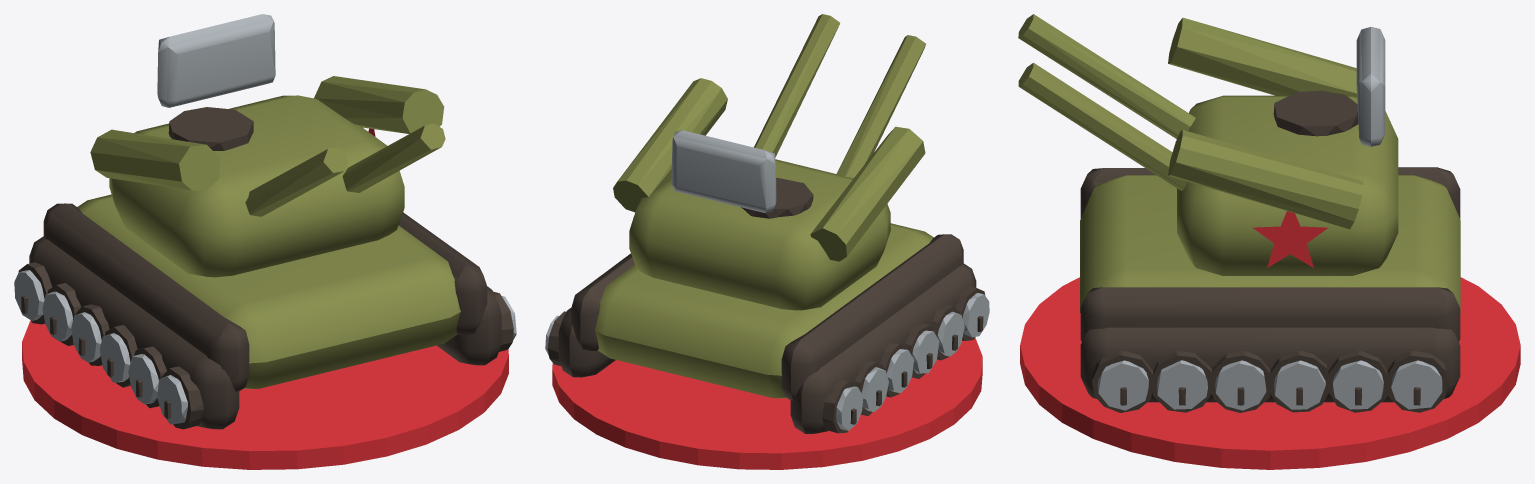
File: soviet_union_anti_aircraft_lod0.glb
3 views of the same model, side by side, from view 1: azimuth 30°, elevation 25°; view 2: azimuth 150°, elevation 25°; view 3: azimuth 270°, elevation 25° (orthographic). The views are drawn at different scales.
Parts seen in each view (by area): view 1: body_hull, base_pedestal; view 2: body_hull, base_pedestal; view 3: body_hull, base_pedestal.
Part boxes in pixels (bbox=[...]): body_hull: bbox=[14, 14, 516, 429]; base_pedestal: bbox=[22, 321, 508, 469]; body_hull: bbox=[545, 14, 989, 433]; base_pedestal: bbox=[552, 338, 982, 469]; body_hull: bbox=[1018, 14, 1460, 412]; base_pedestal: bbox=[1020, 277, 1520, 469].
Size of the model in its own units: 0.7766 by 0.5543 by 0.7793.
